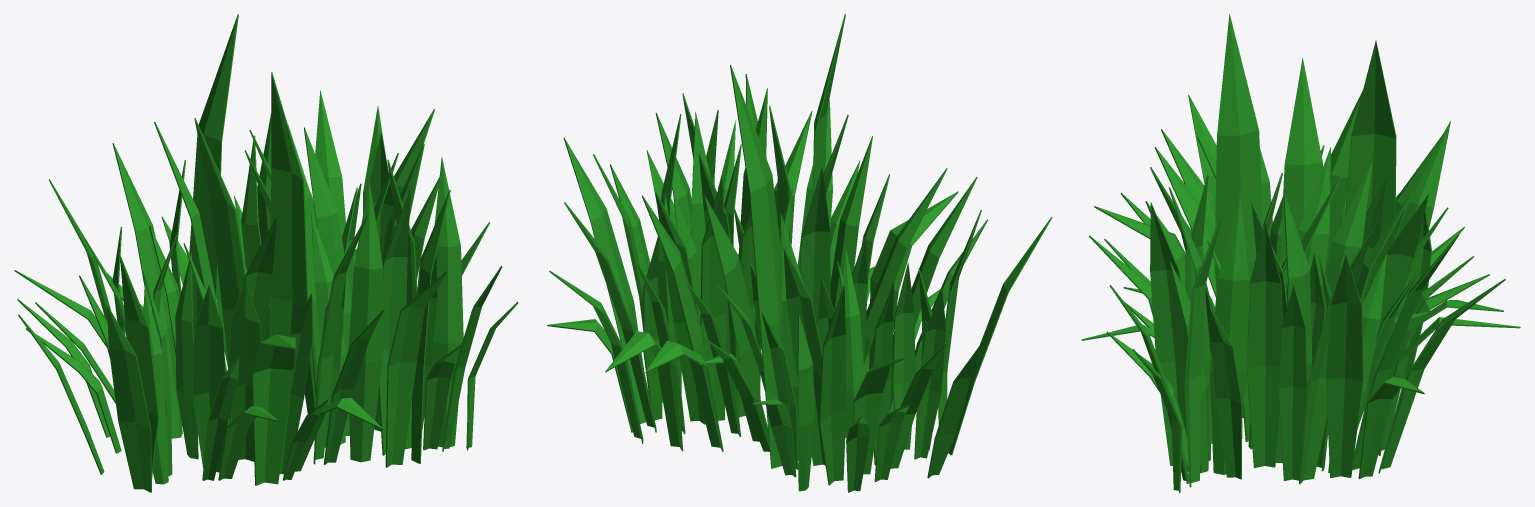
The model's file is cao3.FBX.
3 renders of one model, left to right at view 1: azimuth 30°, elevation 25°; view 2: azimuth 150°, elevation 25°; view 3: azimuth 270°, elevation 25°, orthographic.
Visible parts, largest first — view 1: c78; view 2: c78; view 3: c78.
Part boxes in pixels (<box>): c78: <box>14,14,518,492</box>; c78: <box>547,14,1052,492</box>; c78: <box>1081,14,1520,492</box>.
Bounding box in the file's own units: 1.49 × 1.37 × 1.38.
